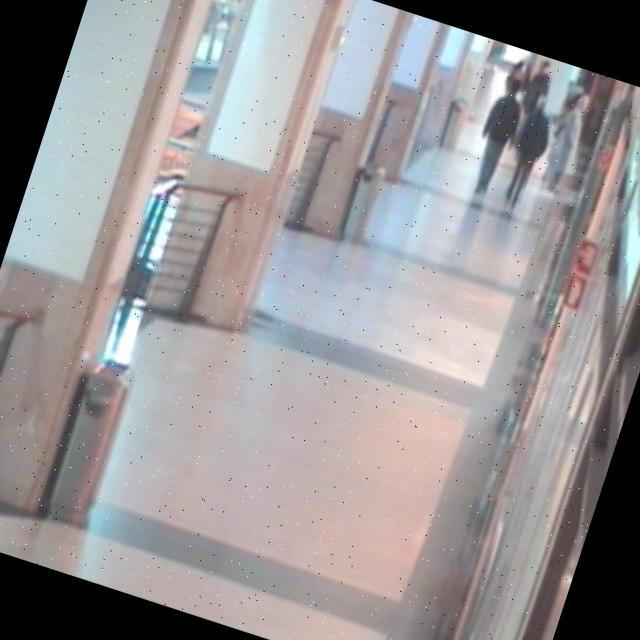person: (460, 68, 533, 204), (492, 85, 564, 215), (536, 88, 601, 200)
